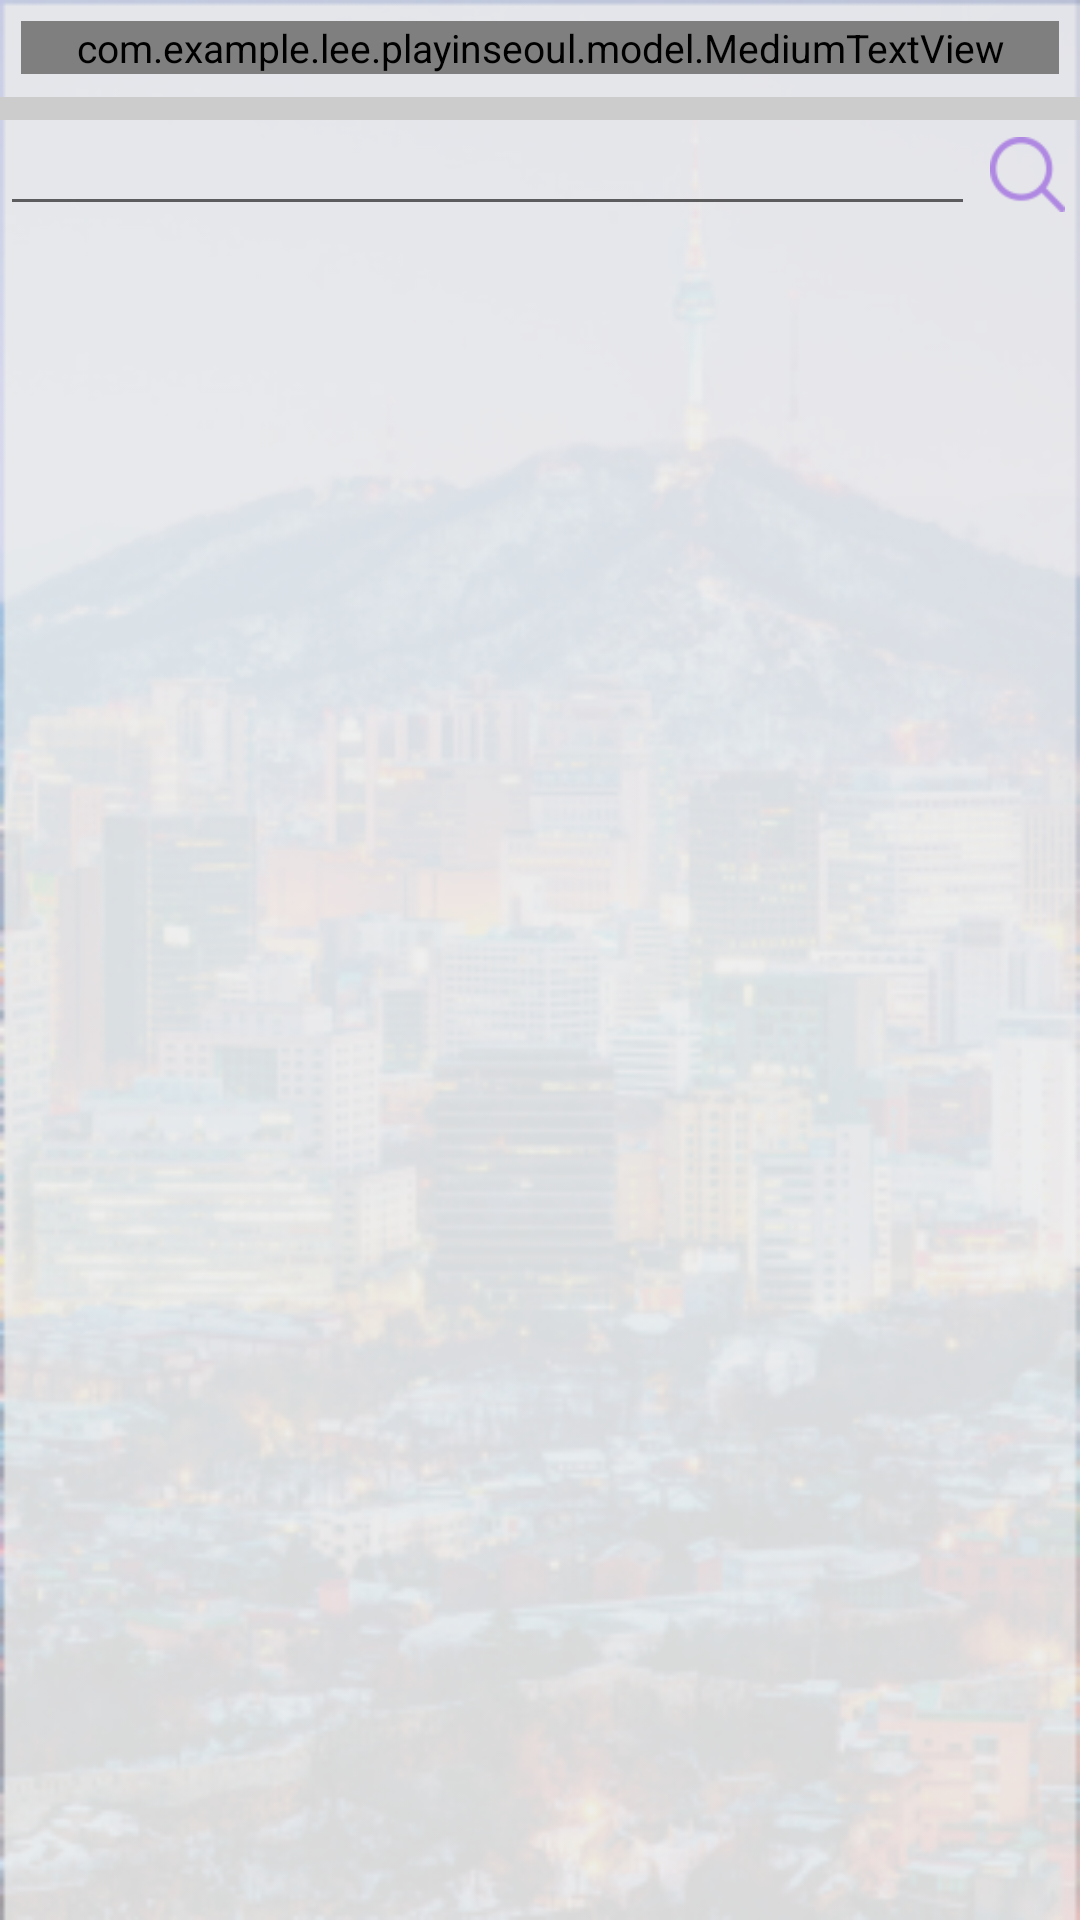

Icons on this 1080px x 1920px Android screen, each with the point to tap as point (x, y):
search: point (1027, 174)
